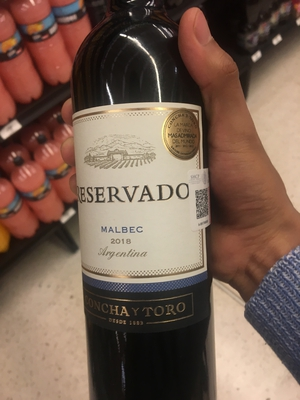reservado malbec: (68, 25, 224, 400)
